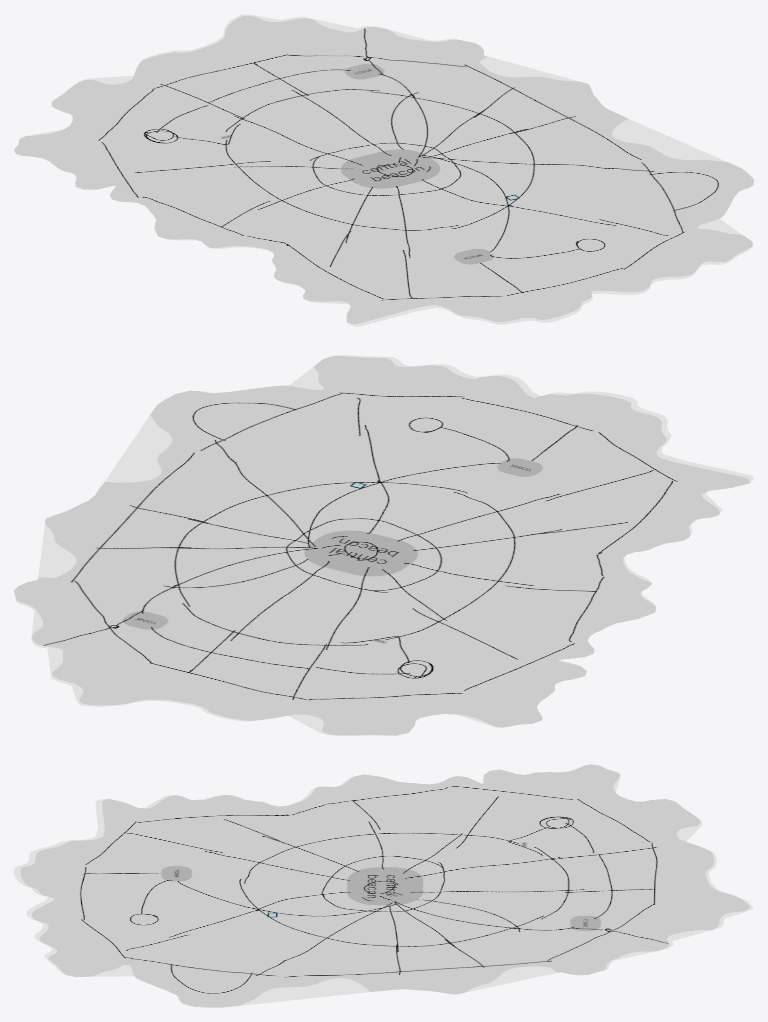
File: ground.fbx
3 views of the same model, one above another, from view 1: azimuth 30°, elevation 25°; view 2: azimuth 150°, elevation 25°; view 3: azimuth 270°, elevation 25° (orthographic). The views are drawn at different scales.
Visible parts, largest first — view 1: Curve.002; view 2: Curve.002; view 3: Curve.002.
Boxes of the visible parts, box(x1,y1,x2,y2) form: Curve.002: box(14, 14, 753, 326); Curve.002: box(14, 355, 753, 735); Curve.002: box(14, 764, 753, 1007).
Size of the model in its own units: 76882 by 0.0161 by 98690.
